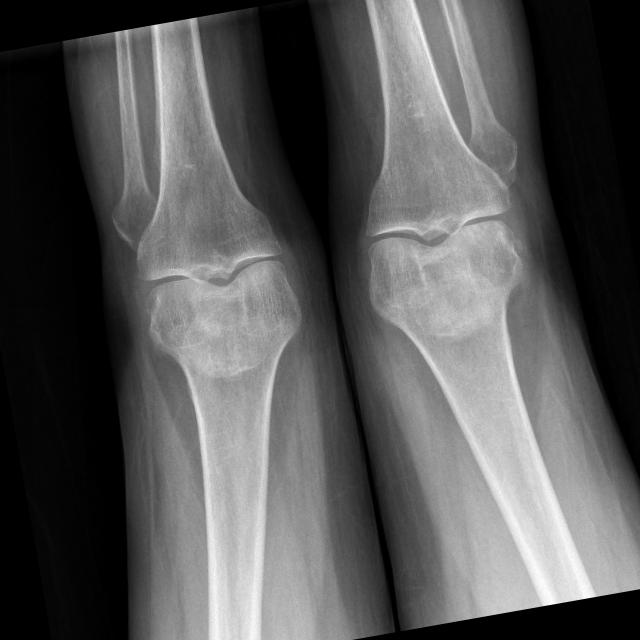Knee: (346, 144, 539, 348), (126, 186, 316, 386)
